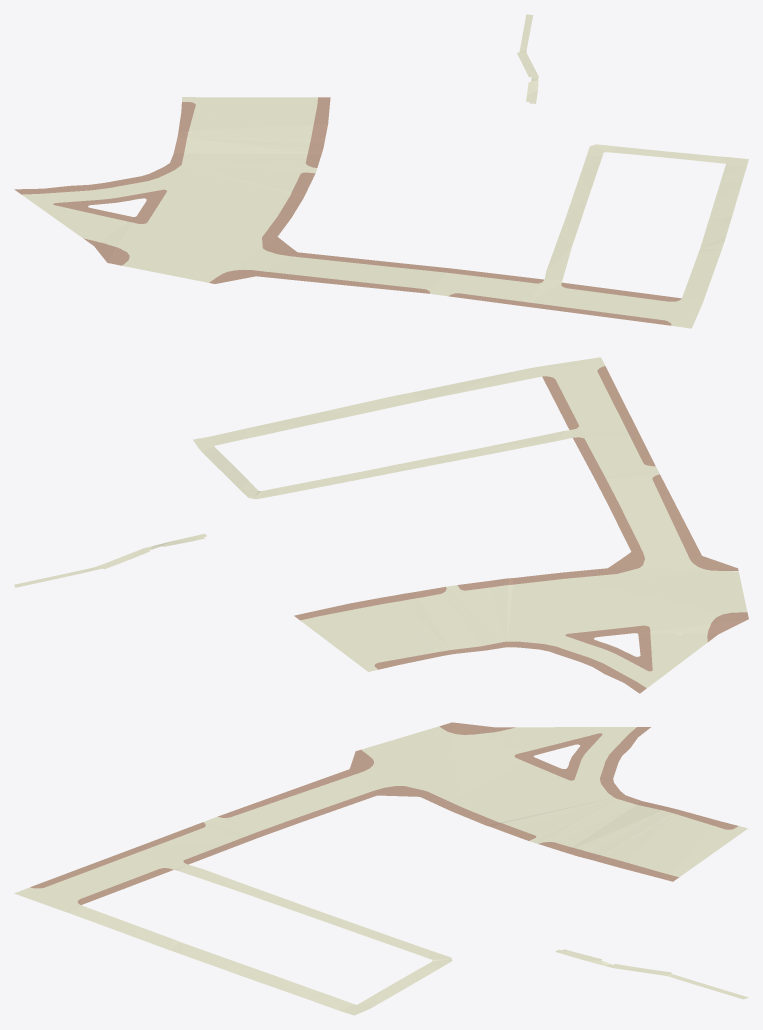
Rendered from data91.glb.
3 renders of one model, top to bottom at view 1: azimuth 30°, elevation 25°; view 2: azimuth 150°, elevation 25°; view 3: azimuth 270°, elevation 25°, orthographic. The views are drawn at different scales.
Size of the model in its own units: 232 by 4.25 by 250.
